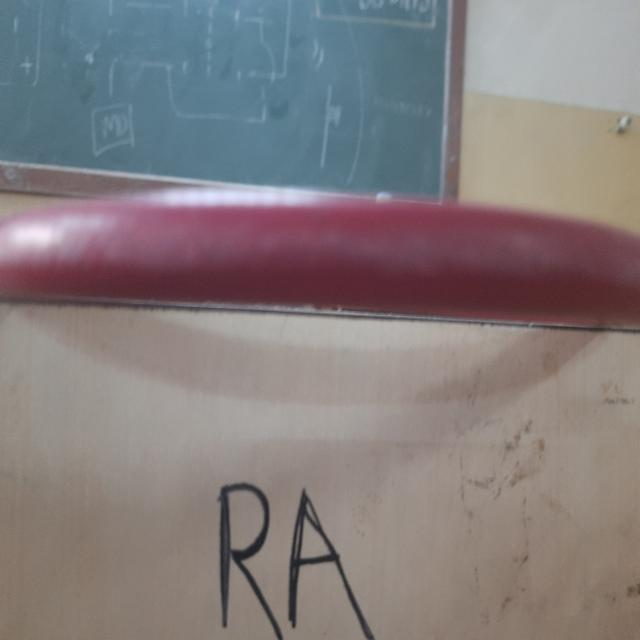daire: (1, 195, 640, 319)
